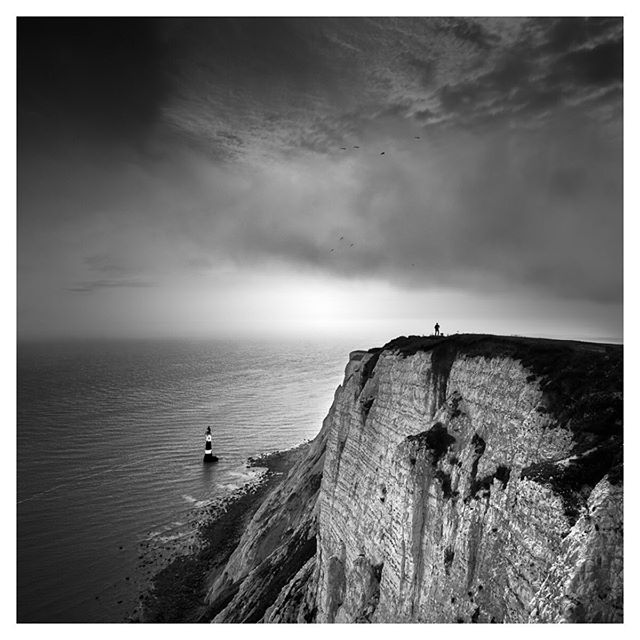sea: (16, 337, 336, 622)
sky: (21, 15, 621, 336)
